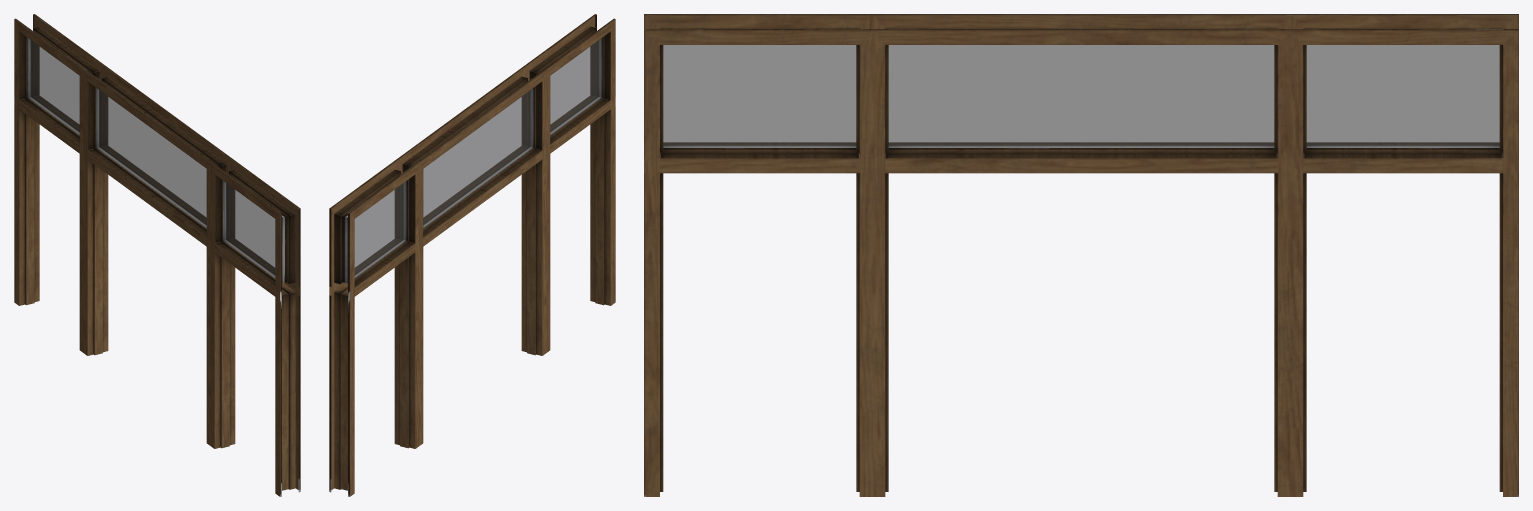
File: Entrance Door Frame.fbx
3 renders of one model, left to right at view 1: azimuth 30°, elevation 25°; view 2: azimuth 150°, elevation 25°; view 3: azimuth 270°, elevation 25°, orthographic. The views are drawn at different scales.
Visible parts, largest first — view 1: Entrance_Door_Frame; view 2: Entrance_Door_Frame; view 3: Entrance_Door_Frame.
Part boxes in pixels (bbox=[...]): Entrance_Door_Frame: bbox=[14, 14, 300, 496]; Entrance_Door_Frame: bbox=[329, 14, 615, 496]; Entrance_Door_Frame: bbox=[644, 14, 1518, 496].
Size of the model in its own units: 24.37 by 320 by 544.
